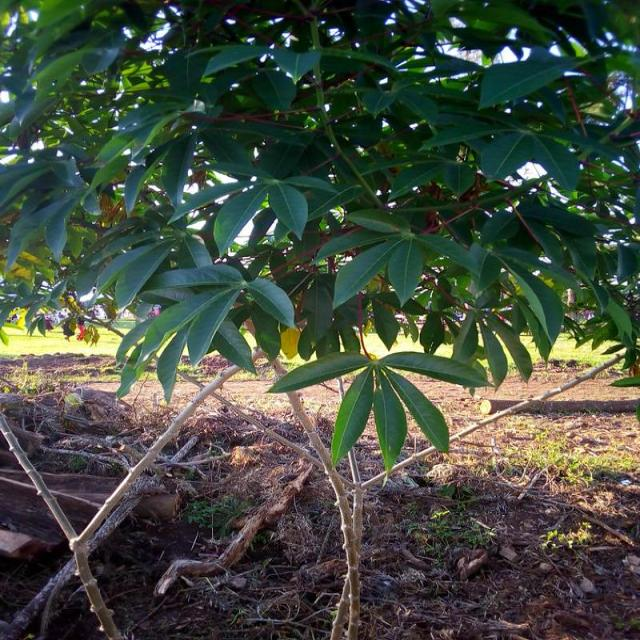cassava leaf: (2, 1, 639, 479), (266, 341, 492, 476)
